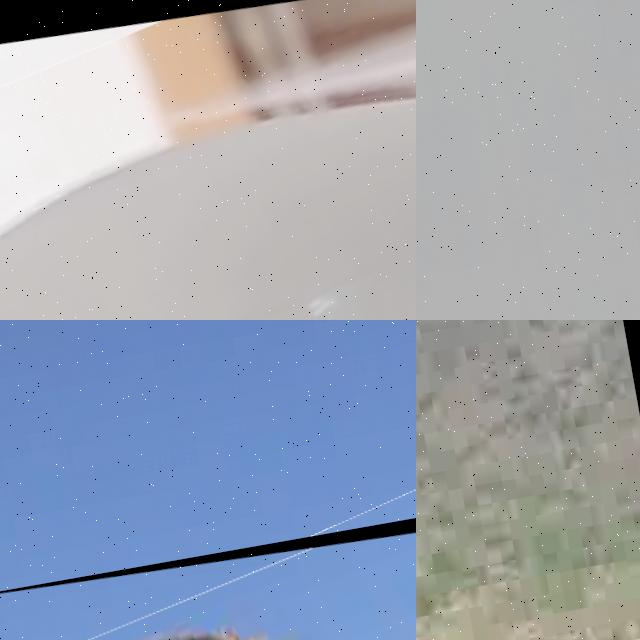0: (0, 505, 416, 640)
drone: (0, 0, 416, 320)
